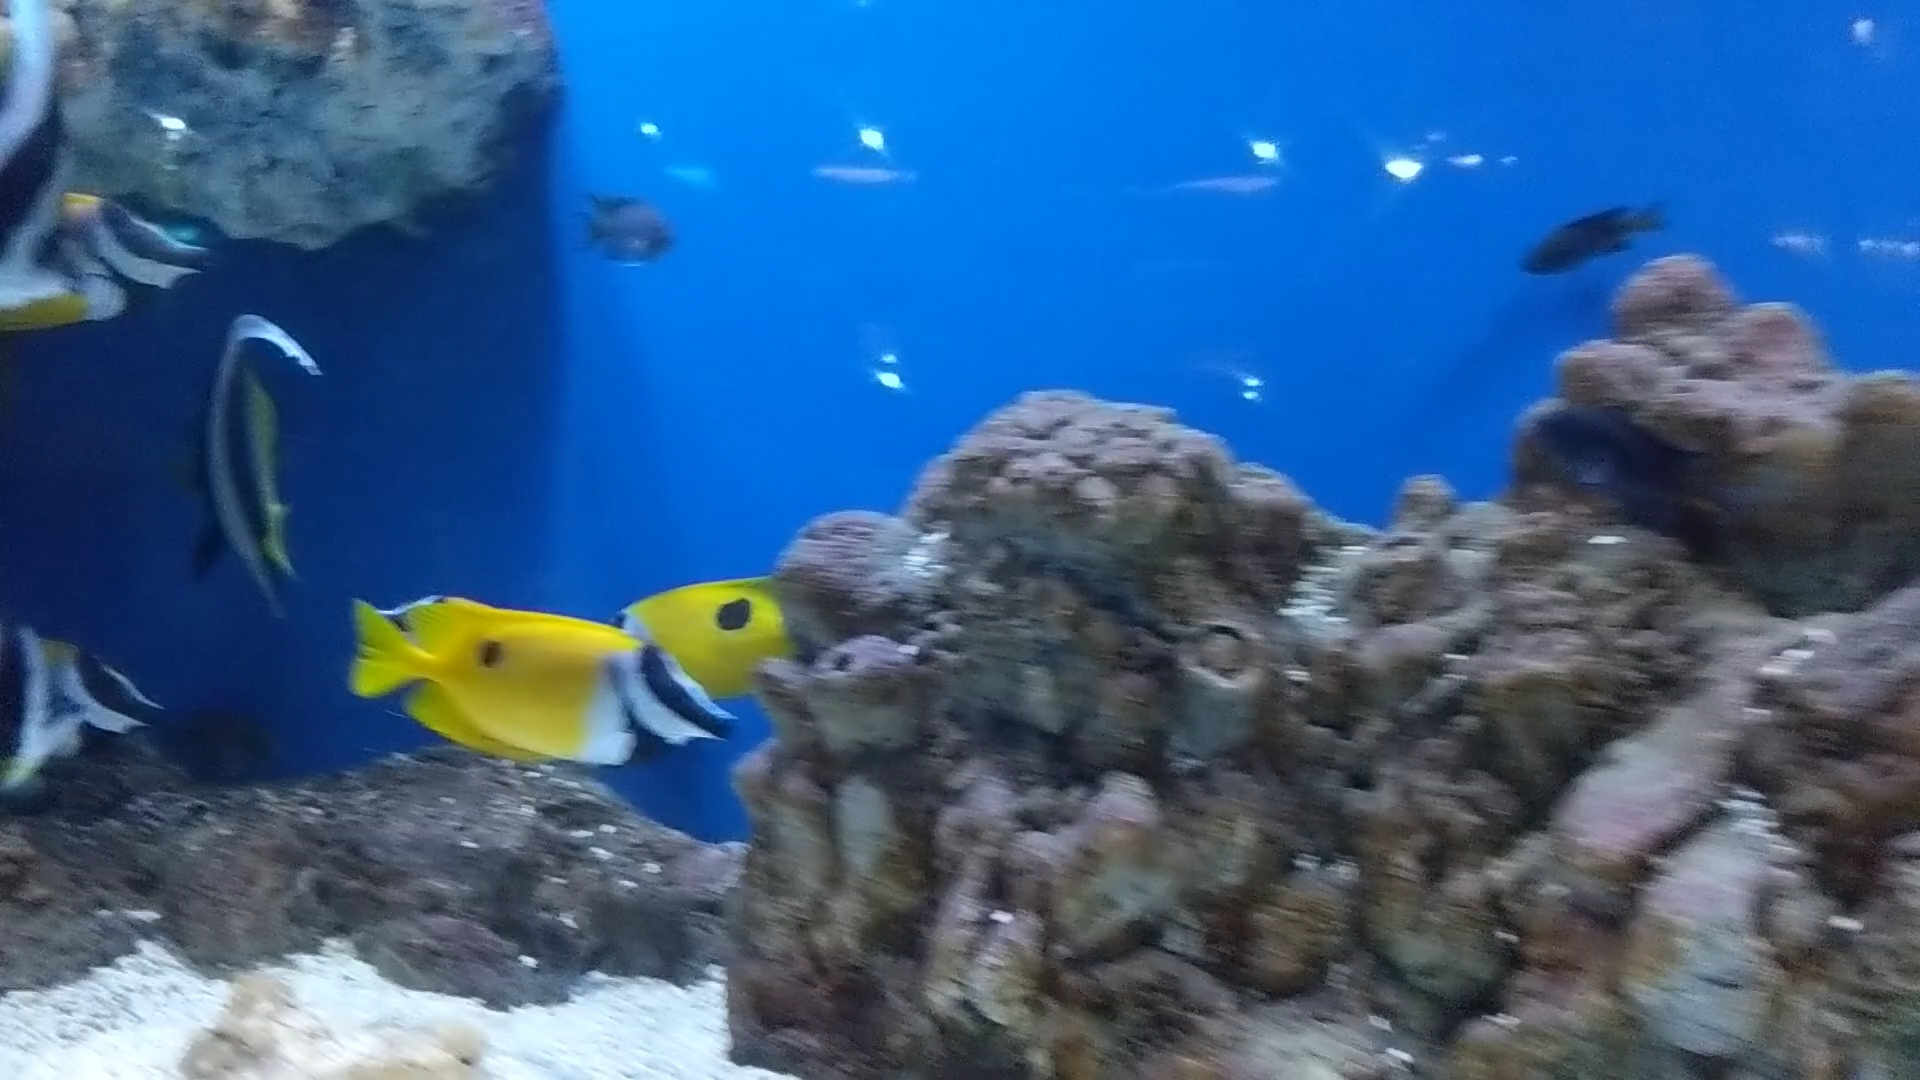moorfish: (162, 278, 328, 626)
rabbitfish: (332, 560, 727, 789), (618, 541, 812, 692)
